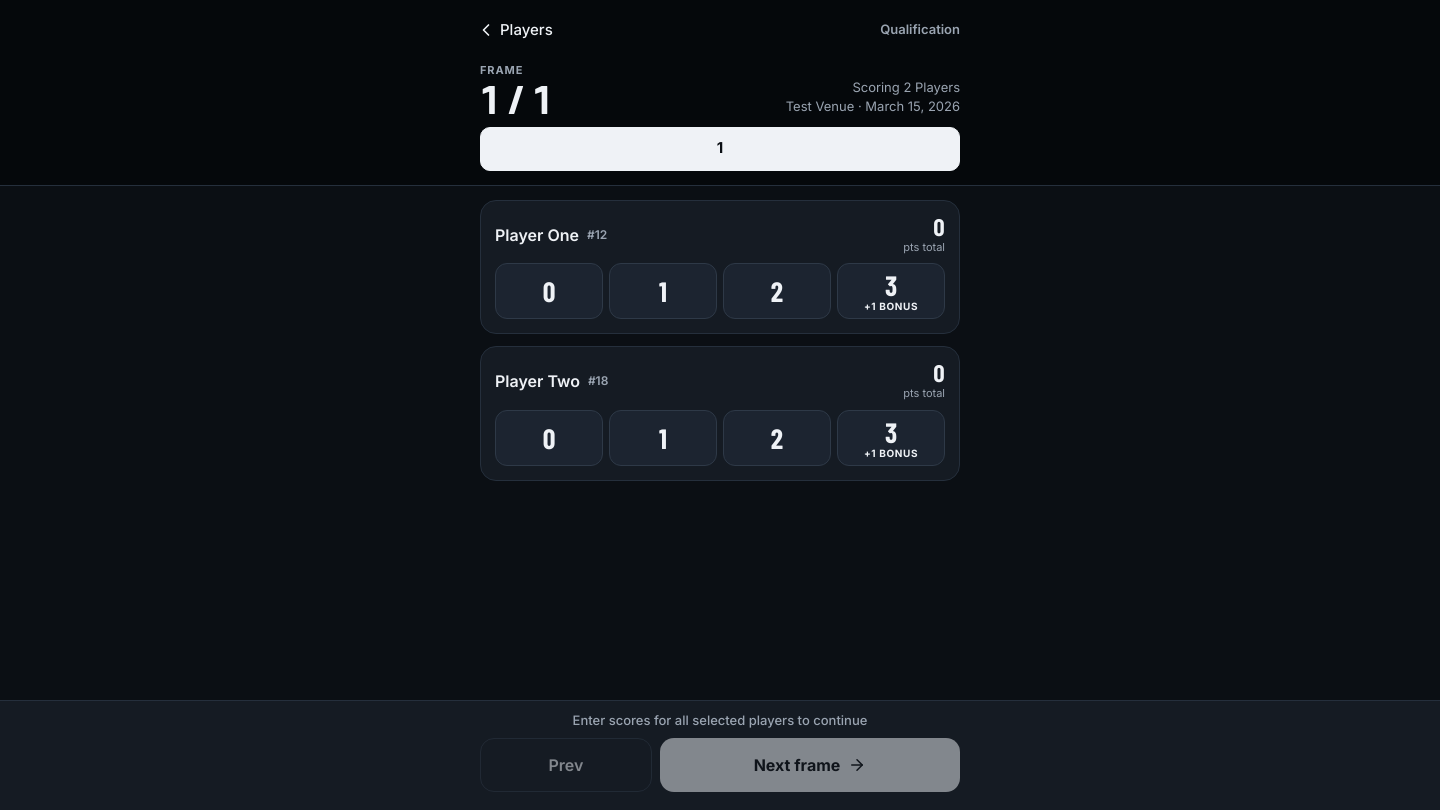
QualificationScoringPage › advances through scoring and opens the review page after all frames are complete
The width and height of the screenshot is (1440, 810).
Expected: the text "1 / 1" is shown, [480,78,552,116]
Click the radio button named "1 putts made" at (663,291), box [609,263,717,319]
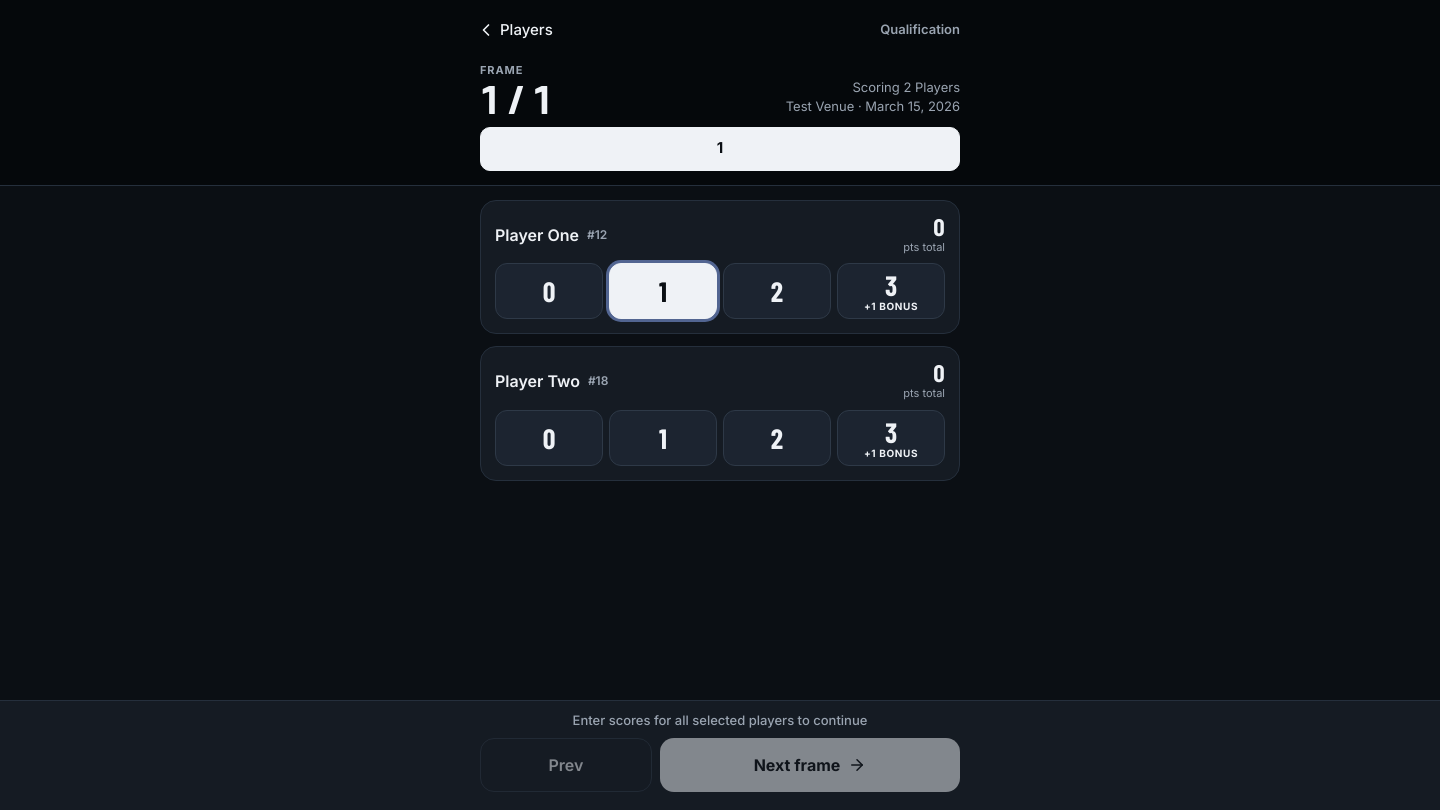
Click the radio button named "1 putts made" at (663,438), box [609,410,717,466]
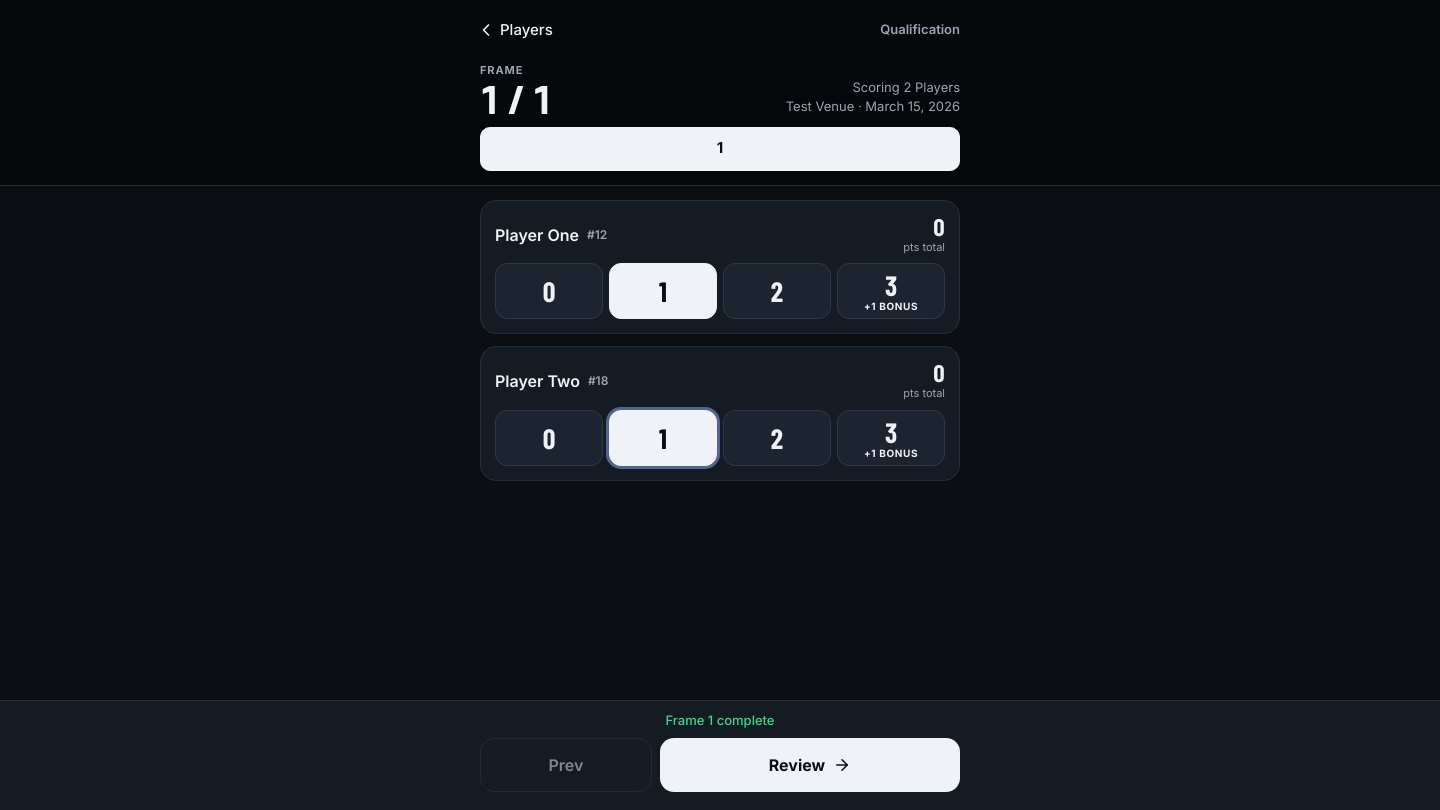
Click the button "Review" at (810,765), box [660,738,960,792]
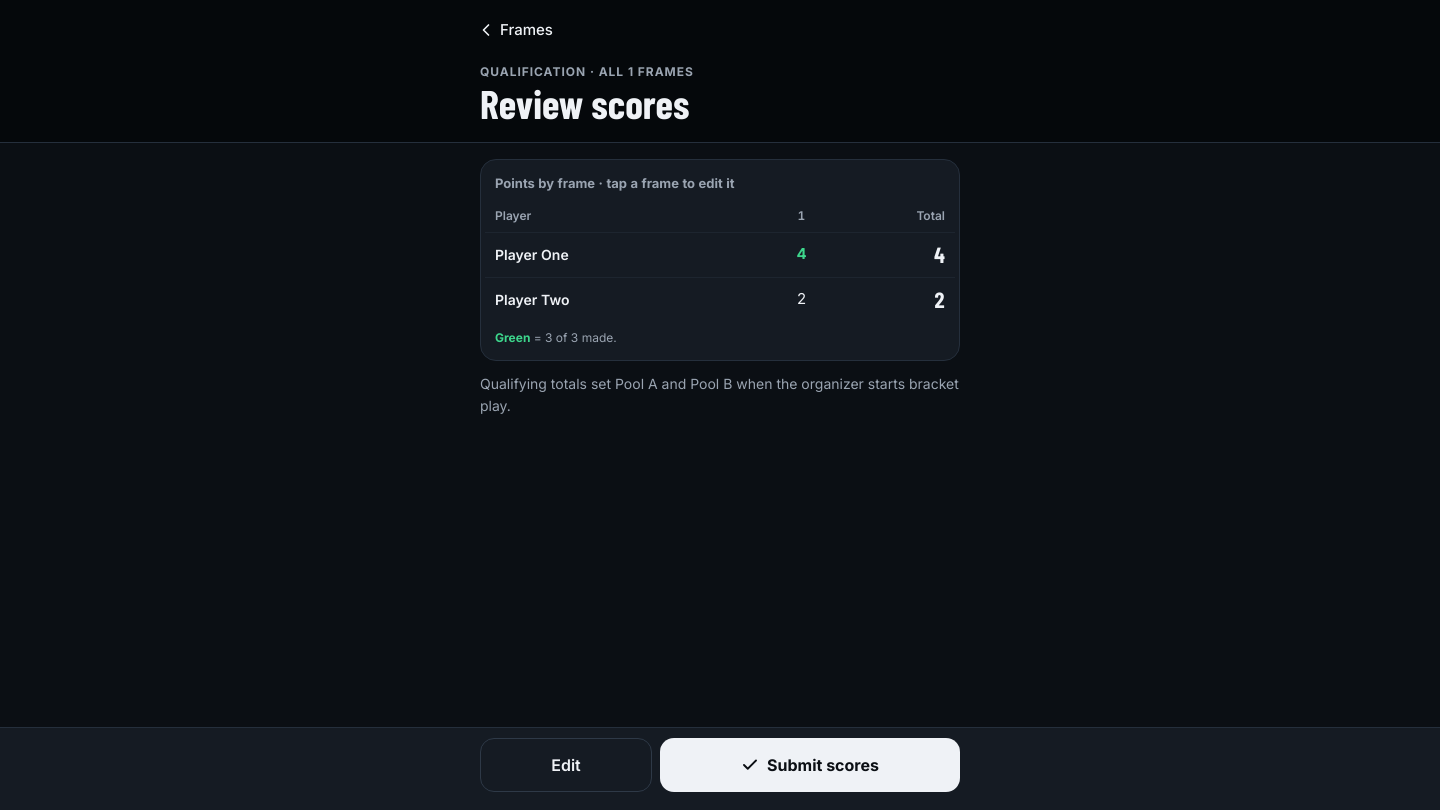
Expected: the button titled "Edit frame 1" is shown, [788,200,816,232]
Result: the heading "Review scores" is shown at [480,79,689,127]
Result: the button "Submit scores" is shown at [660,738,960,792]
